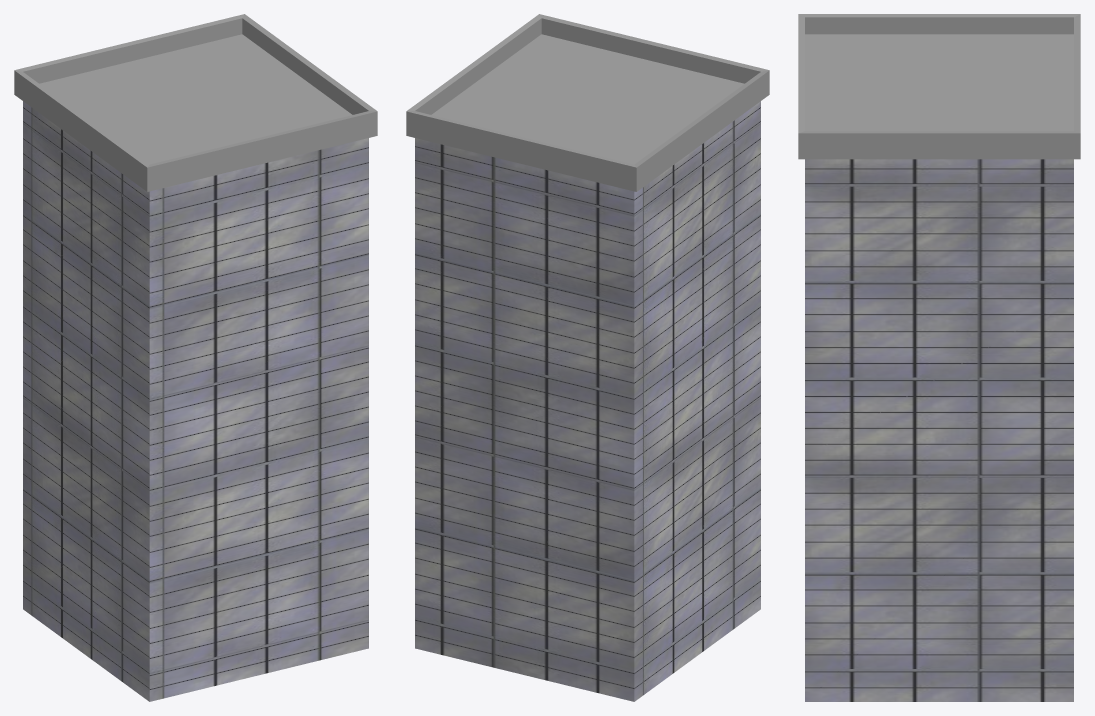
Rendered from lowPolyBuild4.gltf.
The picture shows the model from 3 angles, left to right: view 1: azimuth 30°, elevation 25°; view 2: azimuth 150°, elevation 25°; view 3: azimuth 270°, elevation 25°; orthographic projection. The views are drawn at different scales.
Visible parts, largest first — view 1: Cube; view 2: Cube; view 3: Cube.
Part boxes in pixels (bbox=[...]): Cube: bbox=[14, 14, 377, 701]; Cube: bbox=[406, 14, 769, 701]; Cube: bbox=[798, 14, 1080, 701].
Bounding box in the file's own units: 2.1 × 4.68 × 2.1.
Materials: 2 (1 with a texture image).
